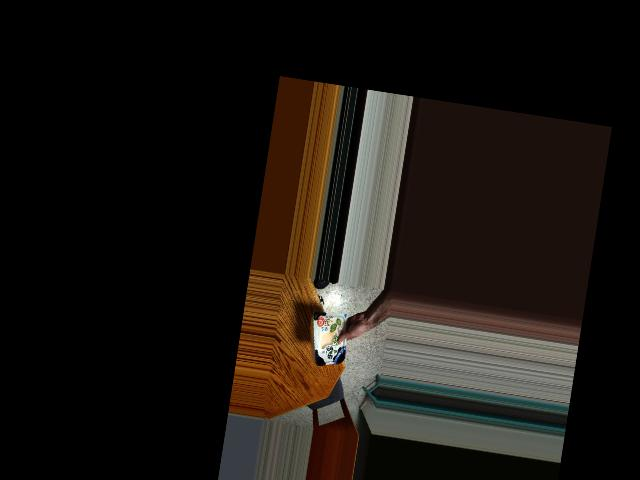cheese: (306, 318, 355, 364)
